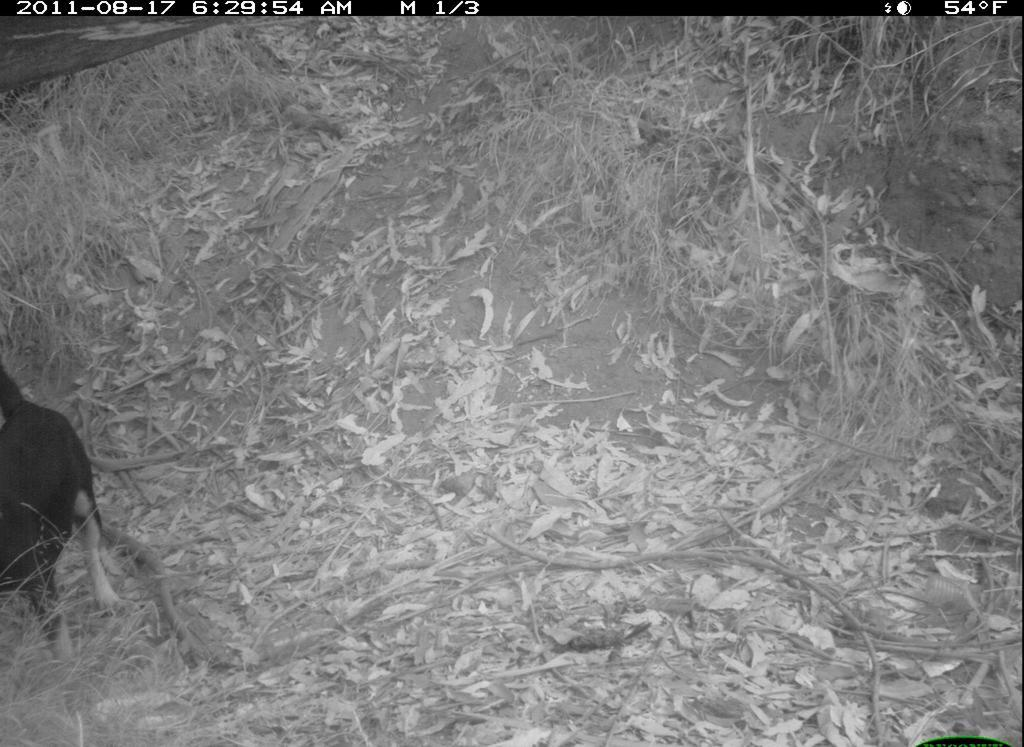dog: (3, 350, 129, 674)
